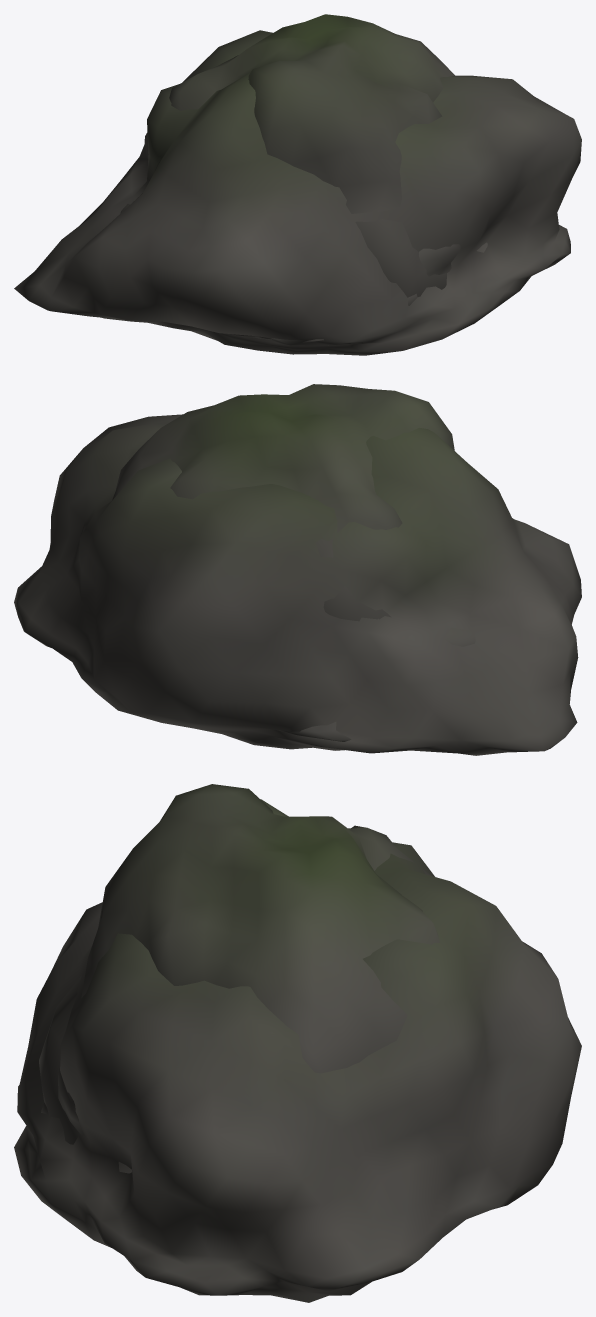
File: rocks.glb
3 views of the same model, one above another, from view 1: azimuth 30°, elevation 25°; view 2: azimuth 150°, elevation 25°; view 3: azimuth 270°, elevation 25° (orthographic). The views are drawn at different scales.
Visible parts, largest first — view 1: Rock0, Rock1, Rock3; view 2: Rock0, Rock1, Rock3; view 3: Rock0, Rock1, Rock3.
Part boxes in pixels (x1,y1,x2,y2): Rock0: [14, 30, 581, 355]; Rock1: [144, 14, 454, 297]; Rock3: [120, 204, 487, 342]; Rock0: [14, 414, 581, 755]; Rock1: [112, 384, 454, 621]; Rock3: [277, 627, 475, 741]; Rock0: [14, 799, 581, 1302]; Rock1: [39, 784, 439, 1144]; Rock3: [41, 1068, 131, 1173].
Size of the model in its own units: 2.76 by 1.42 by 1.99.
